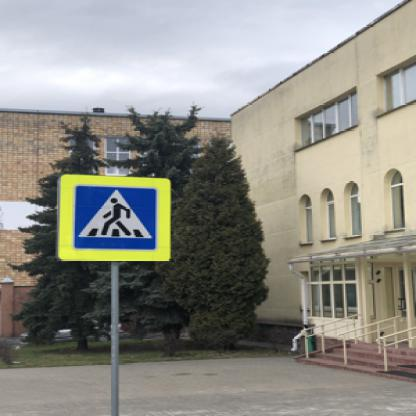crosswalk: (72, 183, 157, 250)
